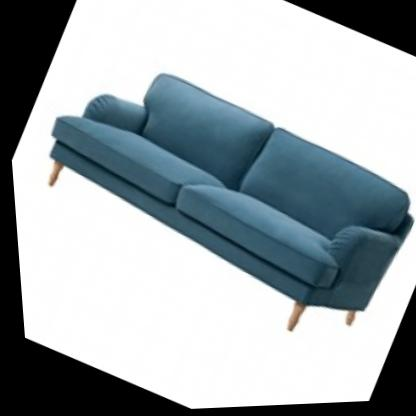Sofa: (2, 14, 416, 397)
